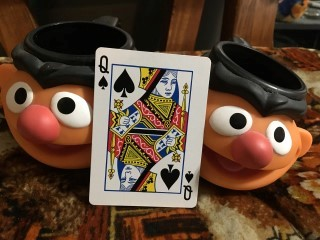QueenOfSpades: (88, 46, 211, 207)
